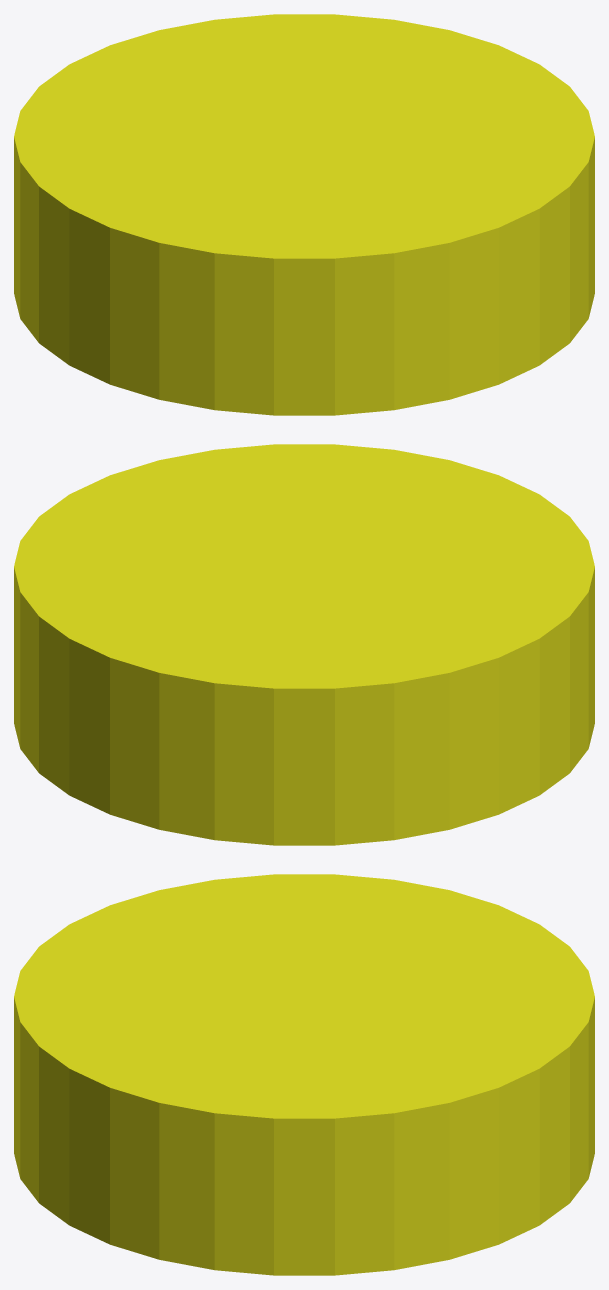
File: circlePrev.fbx
3 views of the same model, one above another, from view 1: azimuth 30°, elevation 25°; view 2: azimuth 150°, elevation 25°; view 3: azimuth 270°, elevation 25° (orthographic).
Visible parts, largest first — view 1: circle.004; view 2: circle.004; view 3: circle.004.
Part boxes in pixels (x1,y1,x2,y2): circle.004: (14, 14, 594, 415); circle.004: (14, 444, 594, 845); circle.004: (14, 874, 594, 1275).
Bounding box in the file's own units: 200 × 60 × 201.
